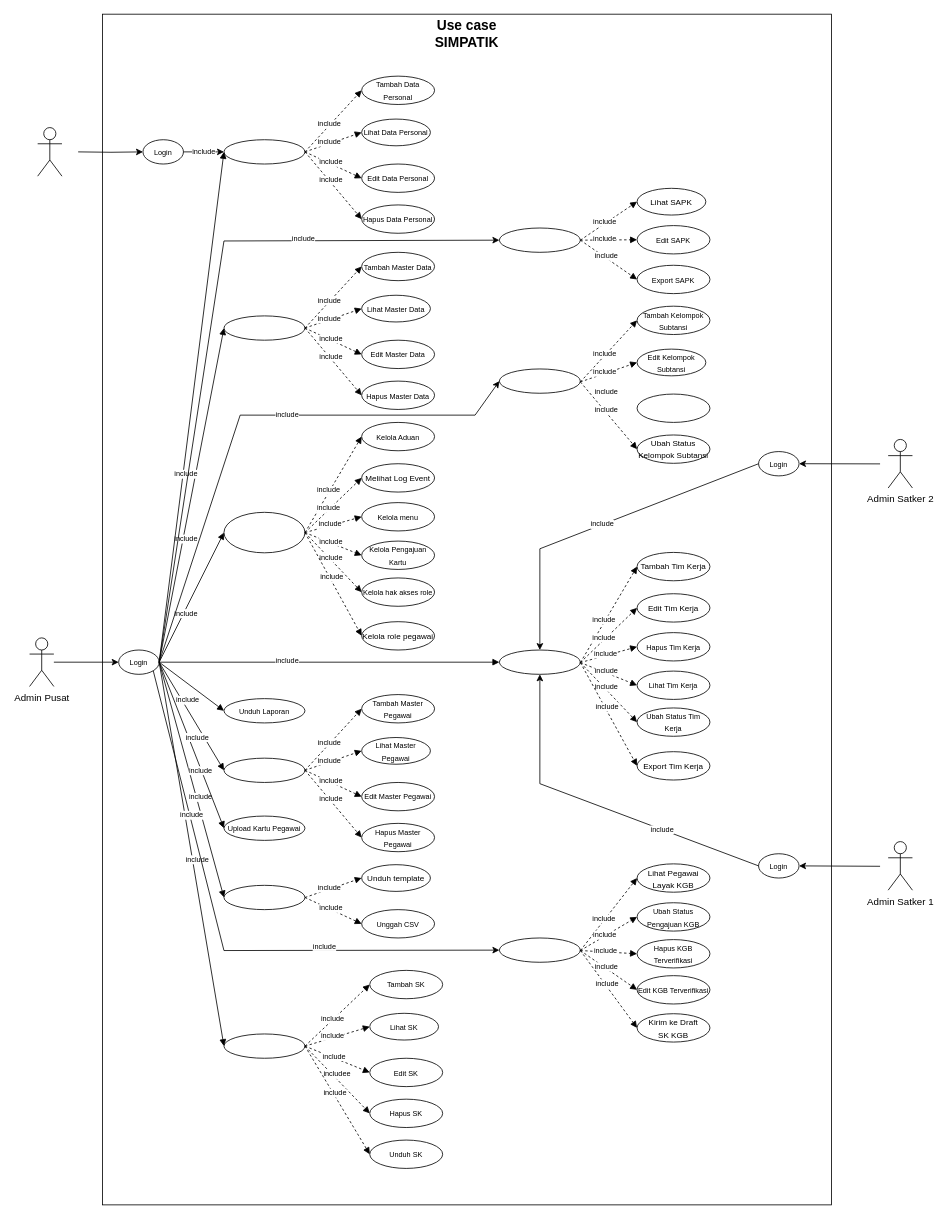
The diagram is 947 pixels wide and 1219 high, and some of its shapes have lost their labels. The centre of each missing label's shape, as x and y in pixels:
Kelola Data Personal Pegawai: point (264, 151)
Kelola Kelompok Subtansi: point (539, 380)
Kelola Kenaikan Gaji Berkala: point (539, 949)
Kelola Master Data: point (264, 327)
Kelola Master Pegawai: point (264, 769)
Kelola Penerbitan SK: point (264, 1045)
Kelola SAPK: point (539, 239)
Lihat Kelompok Subtansi: point (673, 407)
Melakukan management aplikasi: point (264, 532)
Migrasi Data: point (264, 897)
Pegawai: point (49, 151)
Tim Kerja: point (539, 661)
